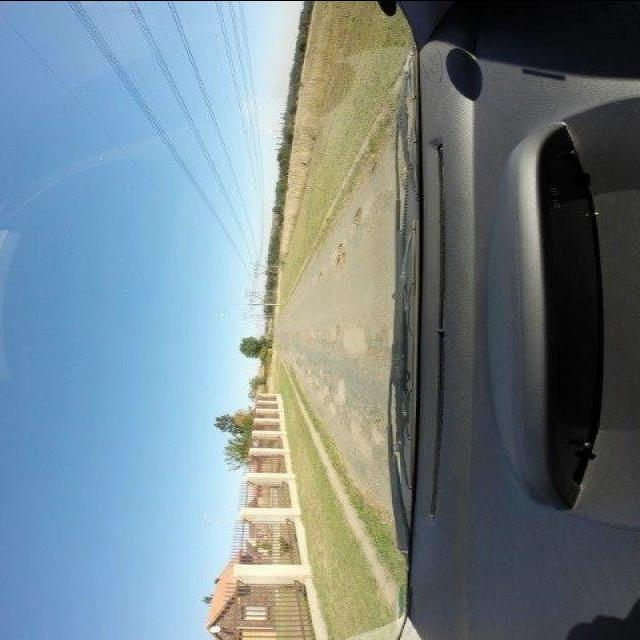lubang: (325, 238, 355, 270), (344, 203, 366, 230), (331, 321, 345, 348), (323, 384, 340, 404), (368, 415, 386, 431), (314, 268, 328, 282)
